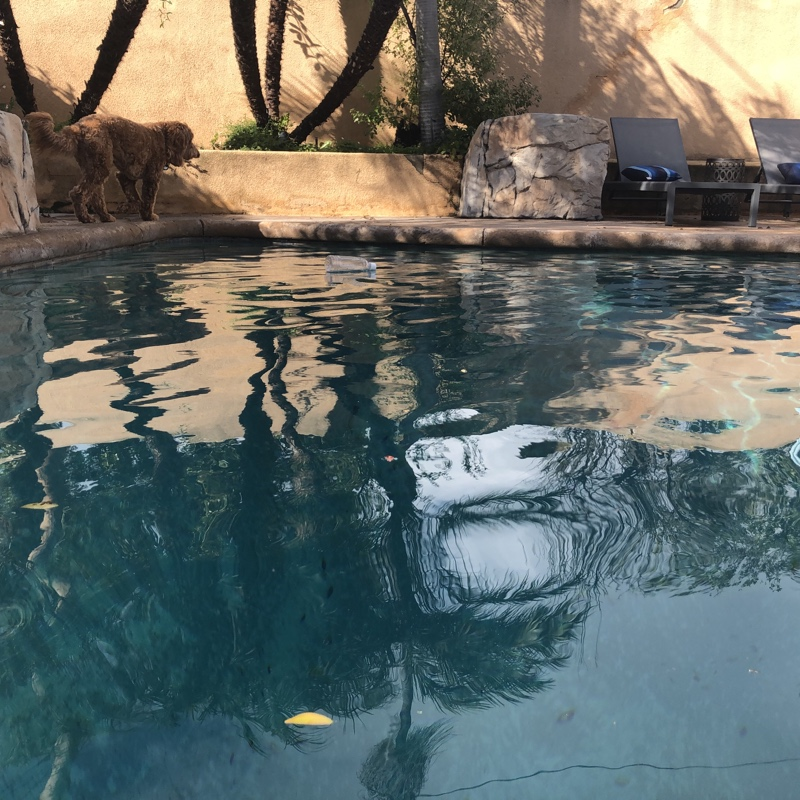Plastic Bottle: (322, 251, 377, 275)
